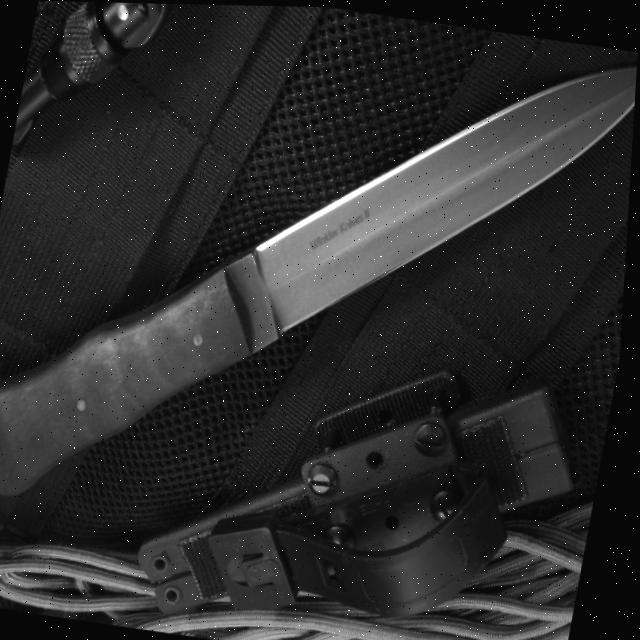knife: (0, 0, 640, 575)
